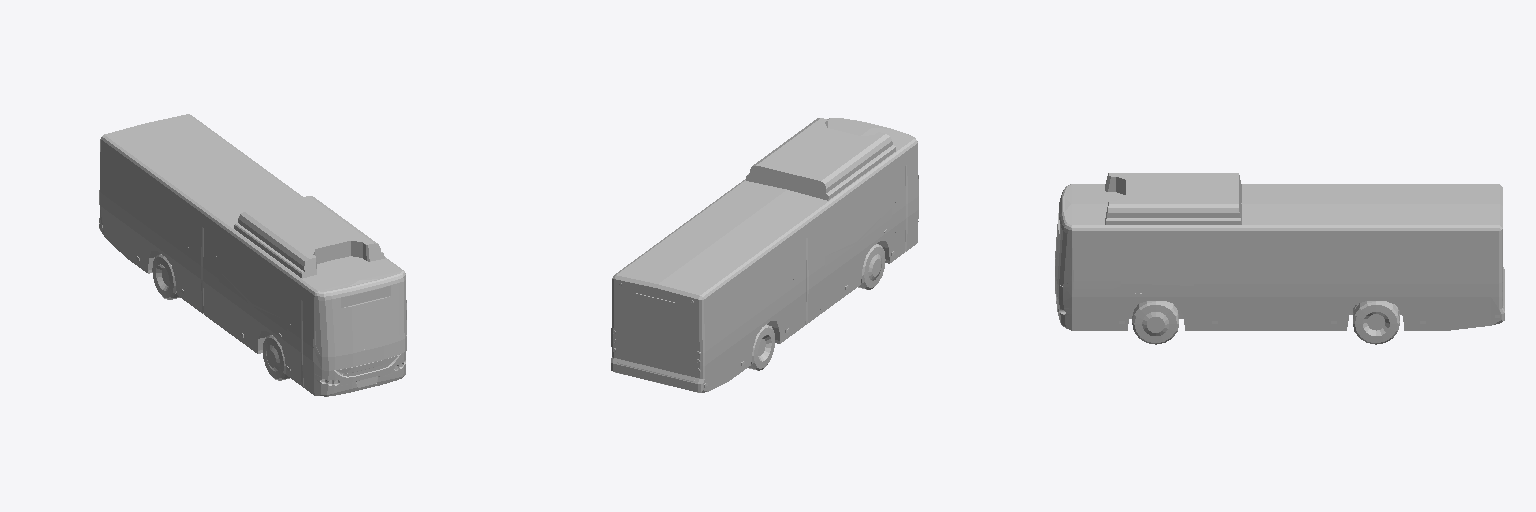
The model's file is yutong.obj.
3 views of the same model, side by side, from view 1: azimuth 30°, elevation 25°; view 2: azimuth 150°, elevation 25°; view 3: azimuth 270°, elevation 25° (orthographic).
Parts seen in each view (by area): view 1: ext, windows__window__, wheel, fwheelR, doorBLgl__window__, doorBRgl__window__, doorFLgl__window__, doorFRgl__window__; view 2: ext, windows__window__, fwheelR, wheel, doorBLgl__window__, doorBRgl__window__, doorFLgl__window__, doorFRgl__window__; view 3: ext, windows__window__, wheel, fwheelL.
Part boxes in pixels (x1,y1,x2,y2): ext: (99,114,406,396); windows__window__: (106,154,406,355); wheel: (152,254,179,299); fwheelR: (263,335,289,380); doorBLgl__window__: (189,220,200,296); doorBRgl__window__: (204,231,215,307); doorFLgl__window__: (291,295,299,368); doorFRgl__window__: (303,304,312,378); ext: (611,118,918,392); windows__window__: (618,173,891,328); fwheelR: (858,244,885,289); wheel: (748,324,774,370); doorBLgl__window__: (794,241,805,317); doorBRgl__window__: (809,230,820,306); doorFLgl__window__: (896,169,904,242); doorFRgl__window__: (908,159,916,233); ext: (1055,173,1504,330); windows__window__: (1055,224,1487,288); wheel: (1353,301,1399,344); fwheelL: (1132,301,1178,344).
Size of the model in its own units: 2.63 by 3.56 by 10.78.